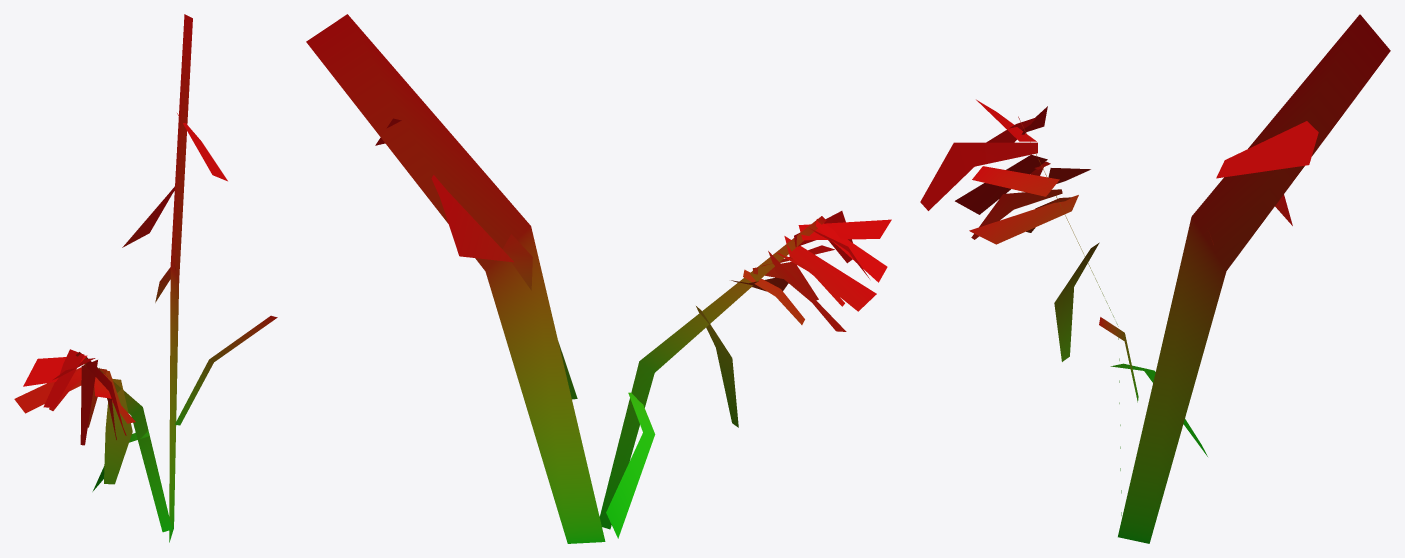
Rendered from Var5_LOD2.fbx.
3 renders of one model, left to right at view 1: azimuth 30°, elevation 25°; view 2: azimuth 150°, elevation 25°; view 3: azimuth 270°, elevation 25°, orthographic. The views are drawn at different scales.
Visible parts, largest first — view 1: _e276_Var5_LOD2; view 2: _e276_Var5_LOD2; view 3: _e276_Var5_LOD2.
Part boxes in pixels (left/top/right/bottom): _e276_Var5_LOD2: left=14, top=14, right=277, bottom=542; _e276_Var5_LOD2: left=306, top=14, right=891, bottom=543; _e276_Var5_LOD2: left=920, top=14, right=1390, bottom=543.
Bounding box in the file's own units: 15.6 × 21.92 × 15.78.
